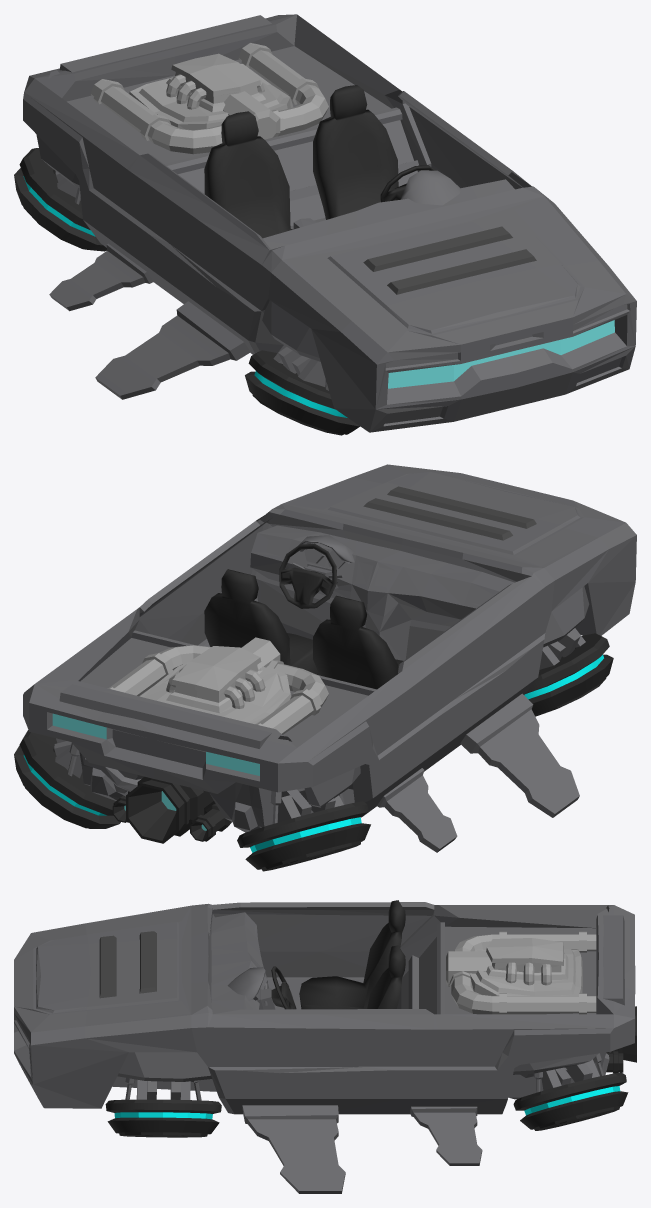
File: Hangar_HoverShuttle_01.fbx
3 views of the same model, one above another, from view 1: azimuth 30°, elevation 25°; view 2: azimuth 150°, elevation 25°; view 3: azimuth 270°, elevation 25° (orthographic). The views are drawn at different scales.
Visible parts, largest first — view 1: HoverShuttle_01; view 2: HoverShuttle_01; view 3: HoverShuttle_01.
Boxes of the visible parts, x1,y1,x2,y2 form: HoverShuttle_01: (14, 14, 636, 435); HoverShuttle_01: (14, 464, 636, 871); HoverShuttle_01: (14, 900, 636, 1193).
Size of the model in its own units: 413 by 173 by 567.
